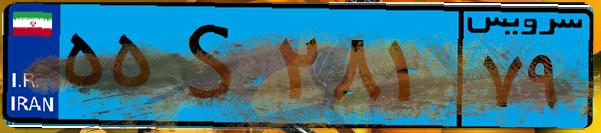1: (385, 28, 445, 110)
2: (270, 28, 330, 110)
5: (57, 26, 110, 100), (110, 28, 158, 98)
7: (475, 38, 525, 113)
8: (330, 28, 385, 110)
9: (525, 38, 570, 115)
S: (158, 12, 270, 120)
